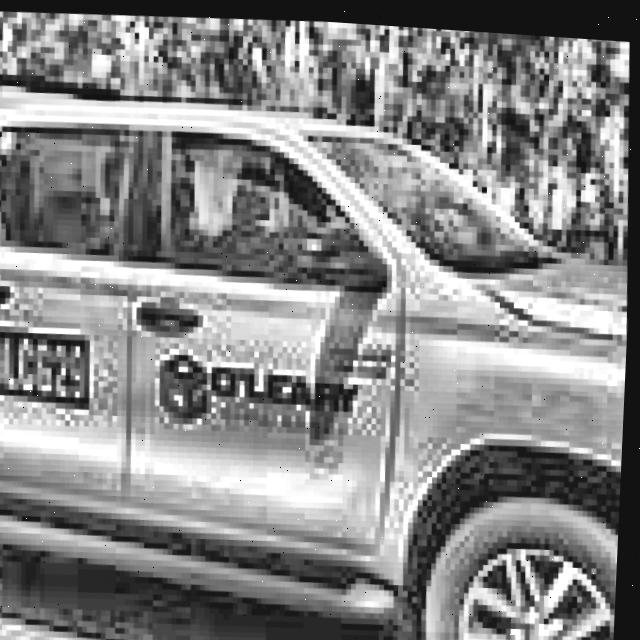light_vehicle: (0, 29, 639, 640)
